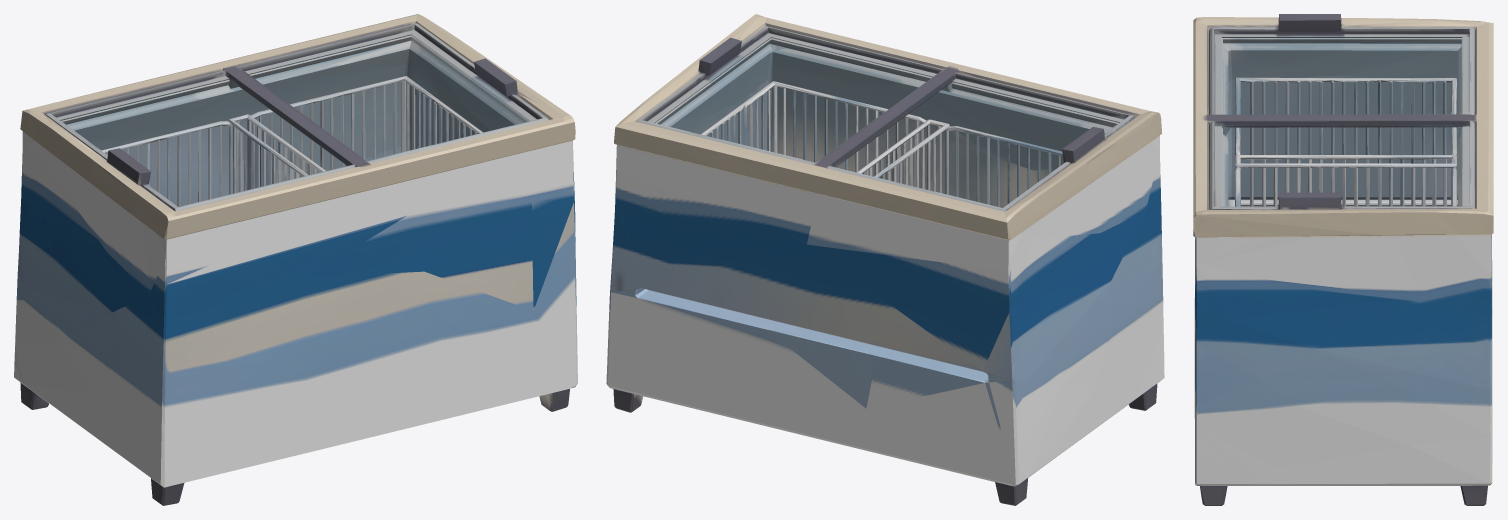
The model's file is ice_cream_freezer.glb.
3 renders of one model, left to right at view 1: azimuth 30°, elevation 25°; view 2: azimuth 150°, elevation 25°; view 3: azimuth 270°, elevation 25°, orthographic.
Parts seen in each view (by area): view 1: ice_cream_freezer; view 2: ice_cream_freezer; view 3: ice_cream_freezer.
Boxes of the visible parts, <box> form: ice_cream_freezer: <box>14,14,577,505</box>; ice_cream_freezer: <box>606,14,1164,505</box>; ice_cream_freezer: <box>1193,14,1493,505</box>.
Bounding box in the file's own units: 1.22 × 0.85 × 0.7638.
1 material, 1 textured.
